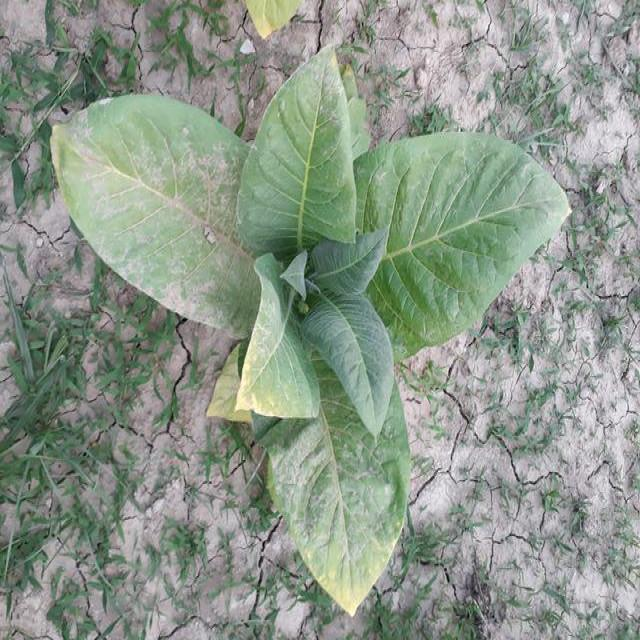crop: (64, 60, 568, 614)
